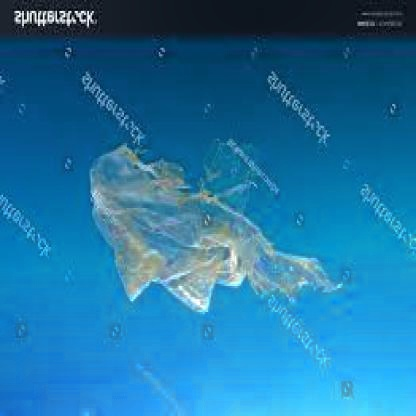pbag: (87, 143, 346, 318)
